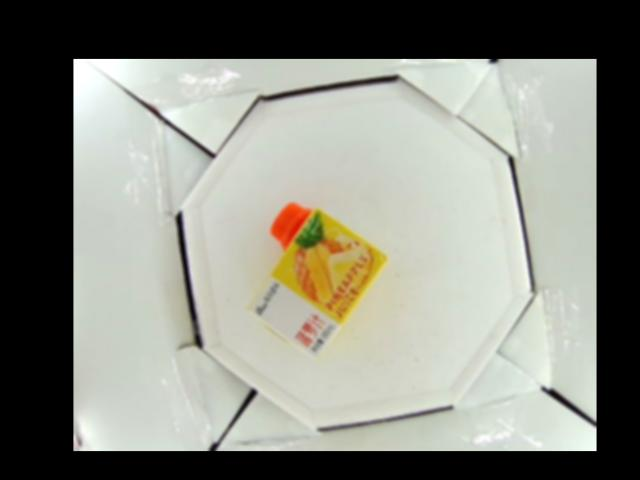Bottle: (247, 199, 387, 360)
